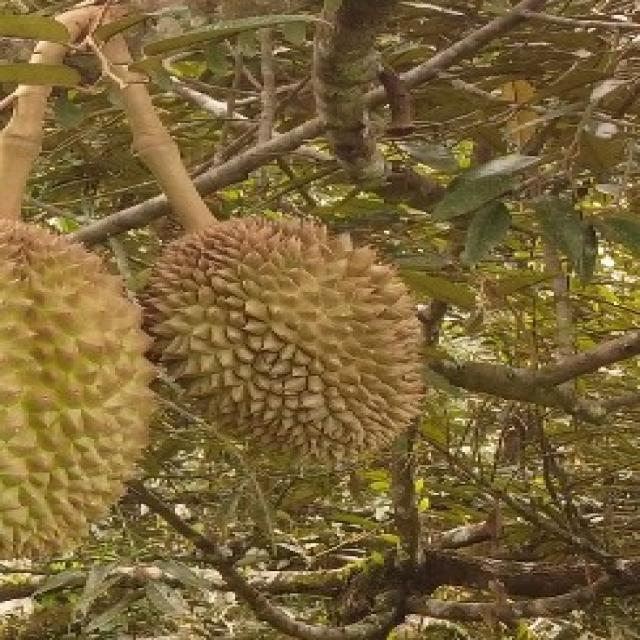mature: (146, 213, 426, 459)
